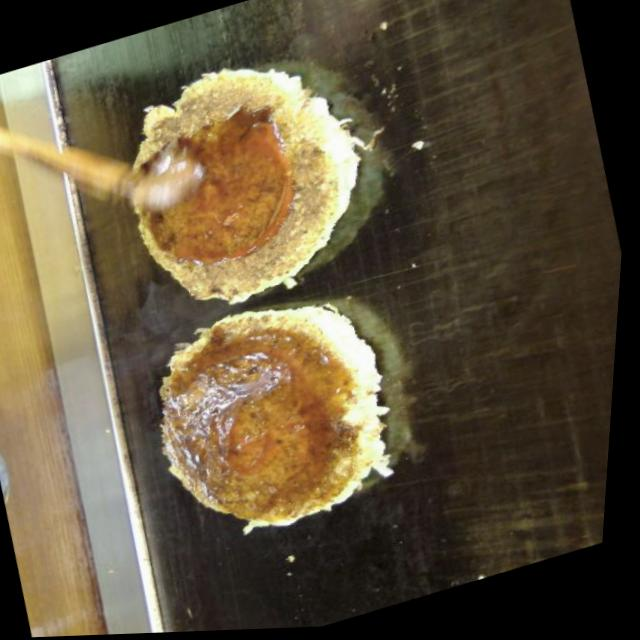蛋糕甜品: (125, 268, 431, 573)
